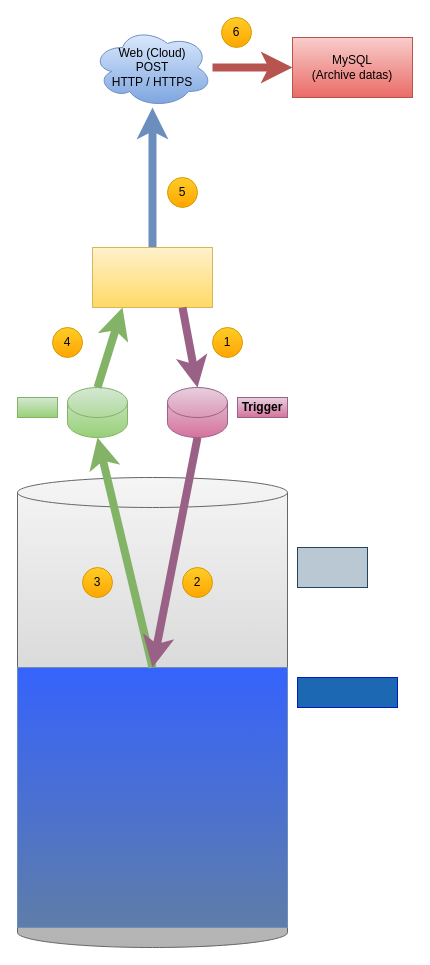
Some shapes in this 430 by 965 pixel diagram are drawn without their labels. Each missing label, with the centre of its shape:
"Echo" belongs at point (37, 407).
"Hladina (Water Level)" belongs at point (347, 692).
"Mikrokontróler Arduino / ESP8266 / ESP32" belongs at point (152, 277).
"Studňa WaterWell" belongs at point (332, 567).
